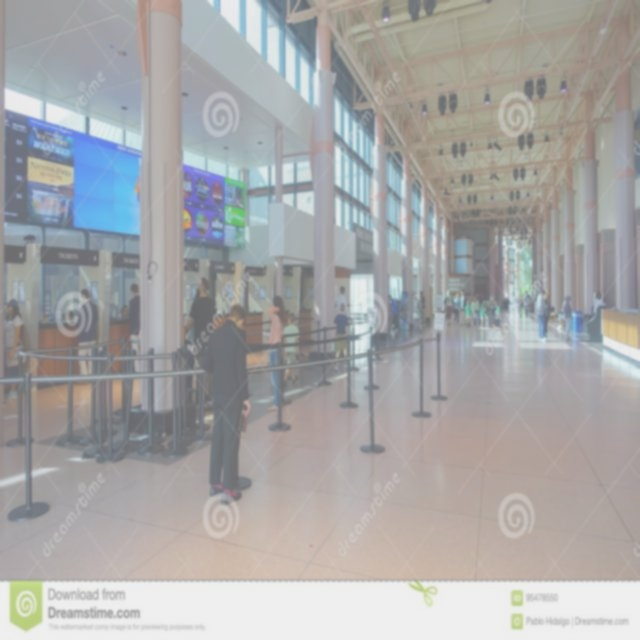pessoa: (198, 302, 252, 509), (186, 282, 216, 408), (186, 276, 214, 408), (73, 288, 100, 387), (3, 298, 28, 400), (266, 295, 286, 412), (282, 310, 300, 388), (127, 282, 141, 373), (332, 302, 349, 372), (535, 288, 548, 342), (561, 294, 574, 343), (386, 292, 400, 334), (336, 285, 352, 319), (590, 290, 608, 319), (442, 288, 454, 326), (470, 293, 482, 327), (544, 287, 552, 338), (544, 288, 552, 338), (556, 300, 568, 332), (458, 288, 468, 326), (590, 292, 605, 316), (452, 292, 462, 326), (522, 289, 532, 319), (419, 290, 427, 327), (478, 299, 488, 328), (116, 300, 130, 320), (494, 300, 502, 330), (464, 300, 472, 328), (516, 292, 524, 320), (61, 306, 72, 321), (0, 394, 8, 410), (530, 291, 535, 314), (487, 290, 495, 302), (503, 296, 509, 310)
